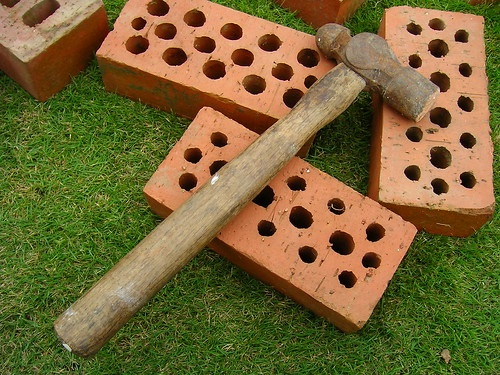hammer: (49, 20, 437, 364)
